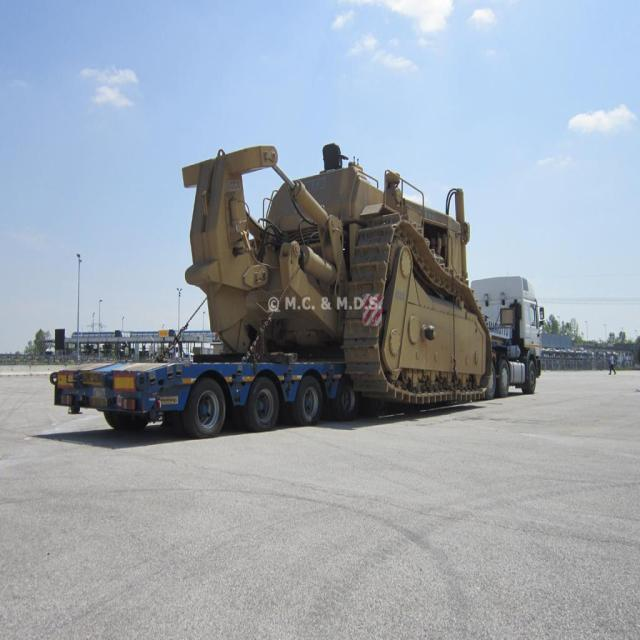buldozerpayloadergrader: (176, 108, 513, 420)
